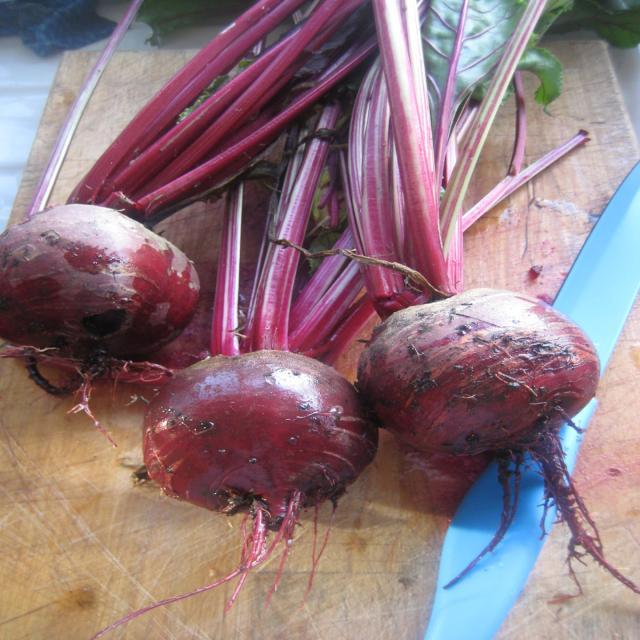beet: (363, 289, 612, 471), (141, 349, 367, 523), (3, 199, 207, 377)
